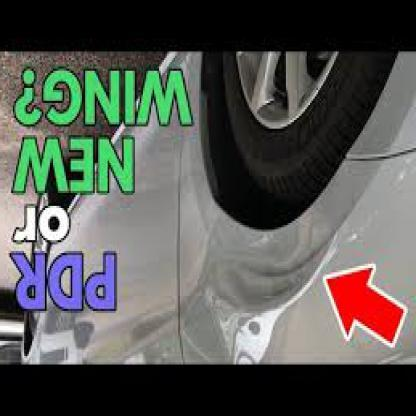dent: (199, 222, 329, 314)
